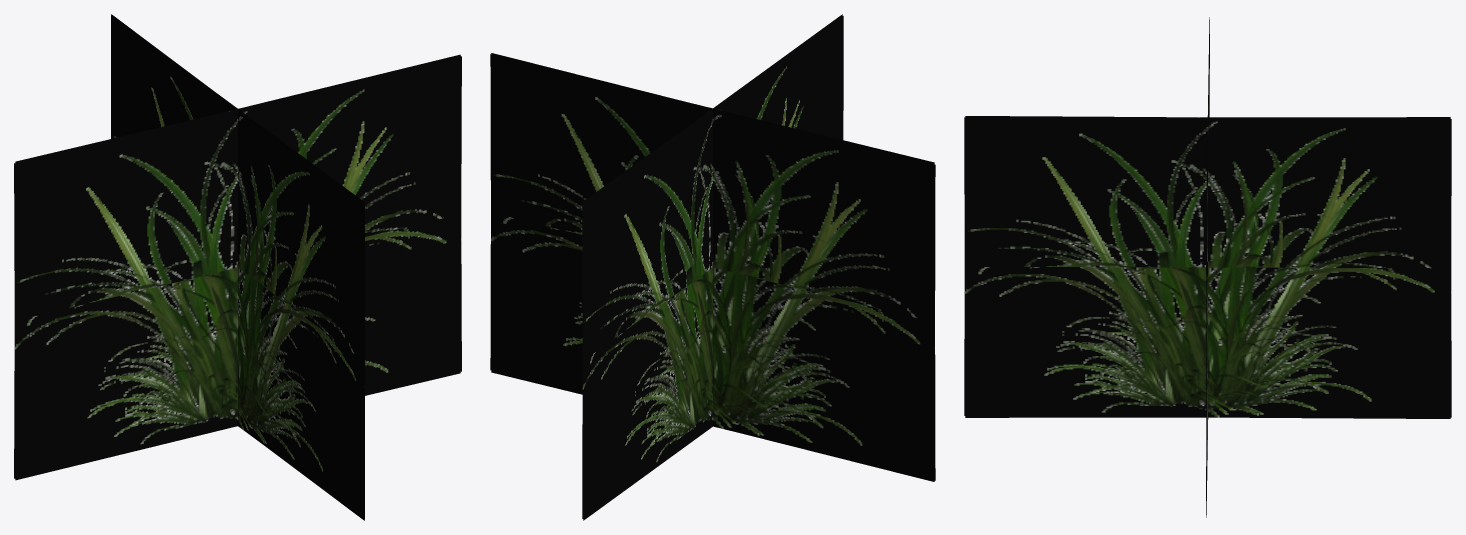
Rendered from grass2.fbx.
3 renders of one model, left to right at view 1: azimuth 30°, elevation 25°; view 2: azimuth 150°, elevation 25°; view 3: azimuth 270°, elevation 25°, orthographic. The views are drawn at different scales.
Parts seen in each view (by area): view 1: grass2; view 2: grass2; view 3: grass2.
Part boxes in pixels (x1,y1,x2,y2): grass2: (14, 14, 461, 520); grass2: (490, 14, 935, 520); grass2: (964, 17, 1451, 517).
Bounding box in the file's own units: 107 × 73.25 × 107.
Materials: 1 (1 with a texture image).
